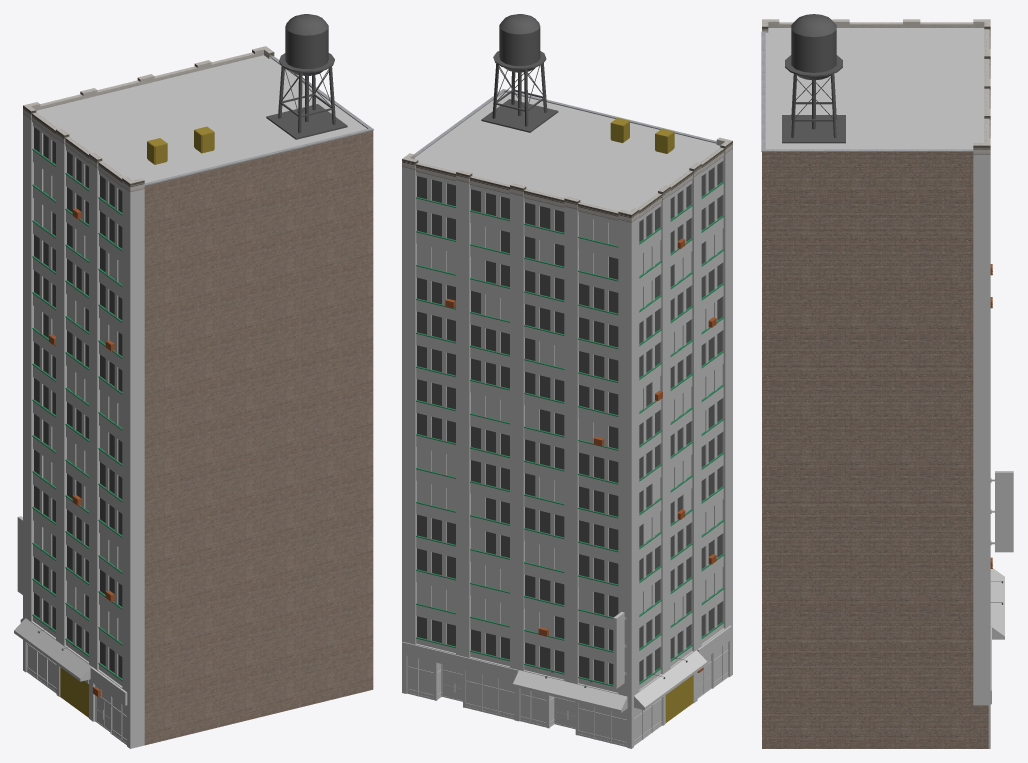
File: mcp_building_34_LOD_0.FBX
3 renders of one model, left to right at view 1: azimuth 30°, elevation 25°; view 2: azimuth 150°, elevation 25°; view 3: azimuth 270°, elevation 25°, orthographic. The views are drawn at different scales.
Parts seen in each view (by area): view 1: mcp_building_34_walls, mcp_building_34, mcp_building_34_props_01, mcp_building_34_metal, mcp_building_34_props_04, mcp_building_34_props_03; view 2: mcp_building_34_walls, mcp_building_34, mcp_building_34_props_01, mcp_building_34_metal, mcp_building_34_props_04, mcp_building_34_props_03, mcp_building_34_props_02; view 3: mcp_building_34_walls, mcp_building_34_props_01, mcp_building_34, mcp_building_34_metal.
Part boxes in pixels (box(x1,y1,x2,y2)): mcp_building_34_walls: box(23, 46, 373, 748); mcp_building_34: box(14, 127, 144, 744); mcp_building_34_props_01: box(38, 14, 347, 650); mcp_building_34_metal: box(144, 56, 373, 185); mcp_building_34_props_04: box(147, 126, 214, 164); mcp_building_34_props_03: box(60, 667, 88, 717); mcp_building_34_walls: box(402, 92, 732, 702); mcp_building_34: box(402, 161, 732, 748); mcp_building_34_props_01: box(481, 14, 687, 687); mcp_building_34_metal: box(414, 89, 716, 157); mcp_building_34_props_04: box(610, 118, 674, 153); mcp_building_34_props_03: box(665, 675, 692, 722); mcp_building_34_props_02: box(445, 238, 716, 672); mcp_building_34_walls: box(762, 19, 990, 748); mcp_building_34_props_01: box(782, 14, 1003, 604); mcp_building_34: box(973, 471, 1013, 748); mcp_building_34_metal: box(761, 31, 973, 151).
Size of the model in its own units: 2680 by 6675 by 2150.
